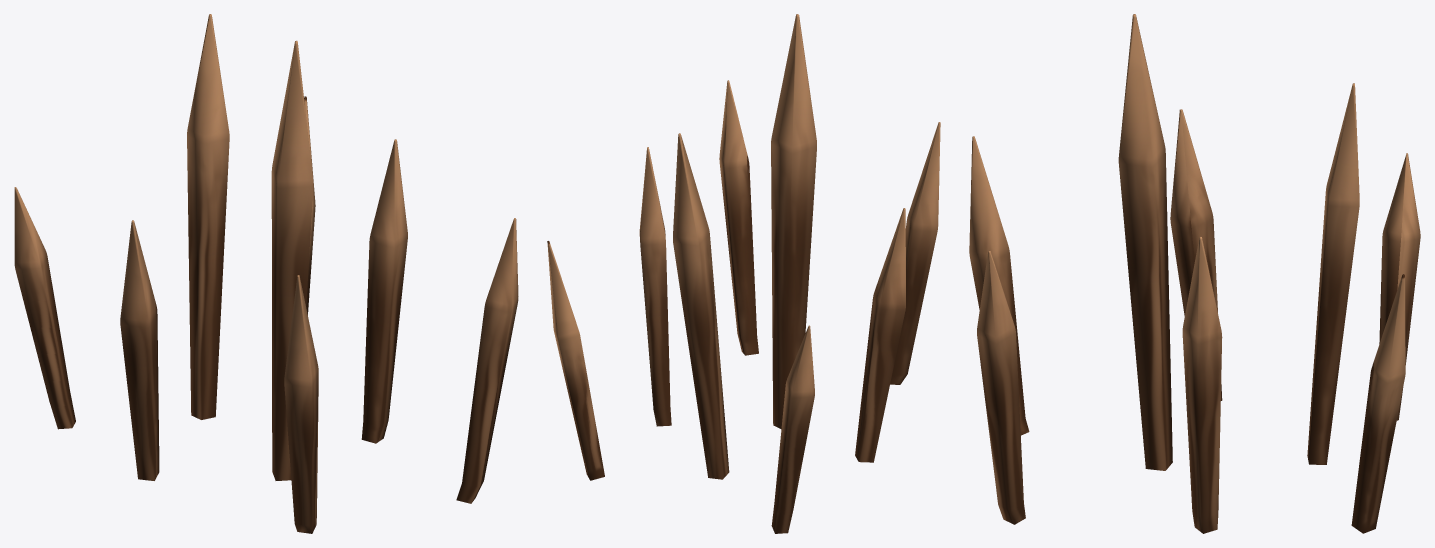
File: spikes.fbx
3 renders of one model, left to right at view 1: azimuth 30°, elevation 25°; view 2: azimuth 150°, elevation 25°; view 3: azimuth 270°, elevation 25°, orthographic. The views are drawn at different scales.
Visible parts, largest first — view 1: spike005, spike002, spike004, spike003, spike001, spike, spike007, spike006; view 2: spike002, spike005, spike003, spike001, spike004, spike, spike007, spike006; view 3: spike002, spike005, spike004, spike001, spike006, spike003, spike007, spike.
Boxes of the visible parts, x1,y1,x2,y2 form: spike005: (187,14,229,419); spike002: (271,40,313,480); spike004: (361,139,407,443); spike003: (120,220,159,480); spike001: (456,218,518,503); spike: (284,275,318,533); spike007: (14,187,75,429); spike006: (304,96,315,314); spike002: (771,14,816,428); spike005: (673,133,729,479); spike003: (855,208,905,462); spike001: (719,80,758,355); spike004: (639,147,671,426); spike: (890,122,940,384); spike007: (771,325,814,533); spike006: (547,241,604,480); spike002: (1118,14,1172,470); spike005: (1307,83,1359,464); spike004: (1182,236,1222,533); spike001: (977,251,1025,524); spike006: (1351,274,1405,533); spike003: (1170,109,1222,400); spike007: (1379,153,1420,420); spike: (969,136,1029,435).
Size of the model in its own units: 27.55 by 34.76 by 39.12.
